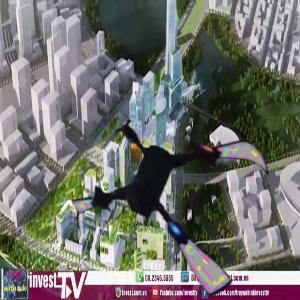drone: (77, 93, 284, 300)
